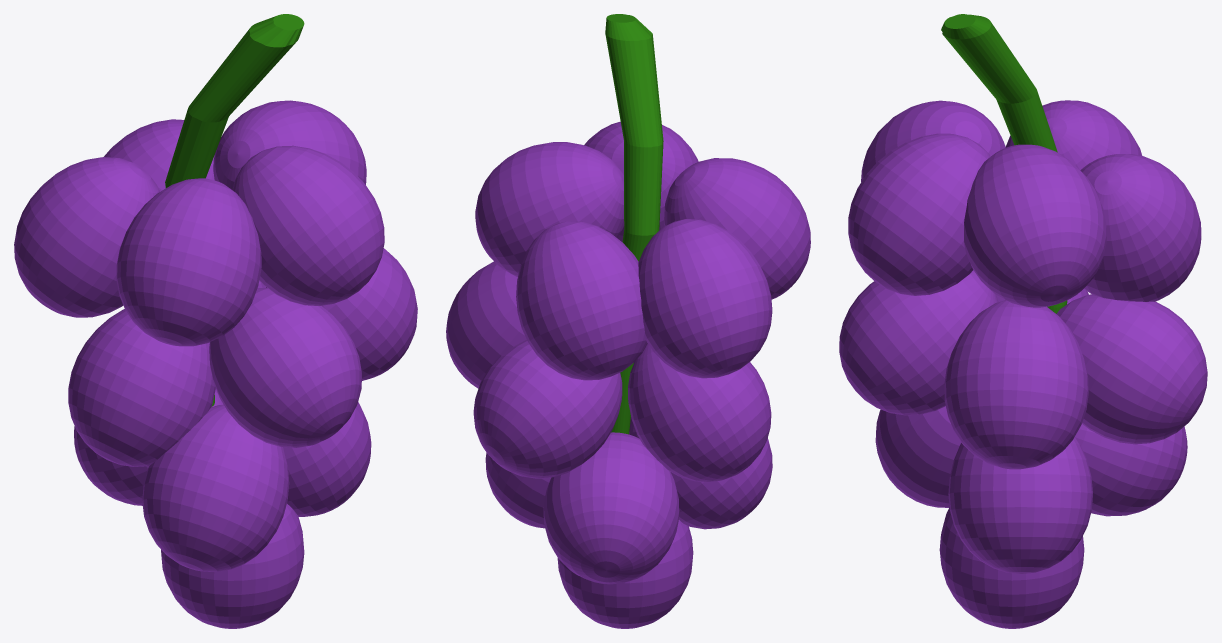
The model's file is nho.glb.
3 renders of one model, left to right at view 1: azimuth 30°, elevation 25°; view 2: azimuth 150°, elevation 25°; view 3: azimuth 270°, elevation 25°, orthographic. The views are drawn at different scales.
Visible parts, largest first — view 1: Sphere.011, Sphere.008, Sphere.007, Sphere.001, Sphere.005, Sphere.009, Sphere, Cylinder, Sphere.012, Sphere.004, Sphere.002, Sphere.010 (+1 smaller); view 2: Sphere.009, Sphere.010, Sphere.003, Sphere.006, Sphere.005, Sphere.012, Sphere.011, Cylinder, Sphere.004, Sphere, Sphere.001, Sphere.008 (+1 smaller); view 3: Sphere.004, Sphere.012, Sphere.008, Sphere.006, Sphere.002, Sphere.007, Sphere.010, Sphere, Sphere.003, Cylinder, Sphere.001, Sphere.011 (+1 smaller).
Part boxes in pixels (x1=…): Sphere.011: x1=116, y1=178, x2=261, y2=346; Sphere.008: x1=232, y1=145, x2=384, y2=305; Sphere.007: x1=209, y1=288, x2=361, y2=447; Sphere.001: x1=142, y1=404, x2=289, y2=571; Sphere.005: x1=68, y1=309, x2=215, y2=466; Sphere.009: x1=14, y1=157, x2=159, y2=317; Sphere: x1=161, y1=504, x2=304, y2=628; Cylinder: x1=165, y1=14, x2=304, y2=406; Sphere.012: x1=213, y1=100, x2=366, y2=189; Sphere.004: x1=266, y1=248, x2=417, y2=380; Sphere.002: x1=283, y1=402, x2=371, y2=516; Sphere.010: x1=104, y1=119, x2=214, y2=191; Sphere.009: x1=638, y1=219, x2=772, y2=378; Sphere.010: x1=516, y1=221, x2=647, y2=380; Sphere.003: x1=543, y1=432, x2=679, y2=584; Sphere.006: x1=473, y1=339, x2=622, y2=478; Sphere.005: x1=628, y1=344, x2=771, y2=482; Sphere.012: x1=475, y1=142, x2=624, y2=276; Sphere.011: x1=664, y1=158, x2=810, y2=299; Cylinder: x1=605, y1=14, x2=663, y2=434; Sphere.004: x1=446, y1=261, x2=526, y2=388; Sphere: x1=557, y1=520, x2=693, y2=628; Sphere.001: x1=629, y1=417, x2=772, y2=529; Sphere.008: x1=584, y1=121, x2=698, y2=241; Sphere.004: x1=944, y1=300, x2=1088, y2=469; Sphere.012: x1=964, y1=144, x2=1106, y2=307; Sphere.008: x1=848, y1=133, x2=990, y2=295; Sphere.006: x1=1056, y1=294, x2=1207, y2=444; Sphere.002: x1=948, y1=437, x2=1092, y2=573; Sphere.007: x1=839, y1=270, x2=998, y2=415; Sphere.010: x1=1080, y1=154, x2=1201, y2=301; Sphere: x1=939, y1=507, x2=1084, y2=628; Sphere.003: x1=1075, y1=424, x2=1187, y2=516; Cylinder: x1=941, y1=14, x2=1067, y2=313; Sphere.001: x1=875, y1=406, x2=961, y2=507; Sphere.011: x1=861, y1=100, x2=1005, y2=181.
Size of the model in its own units: 1.62 by 2.67 by 1.45.
